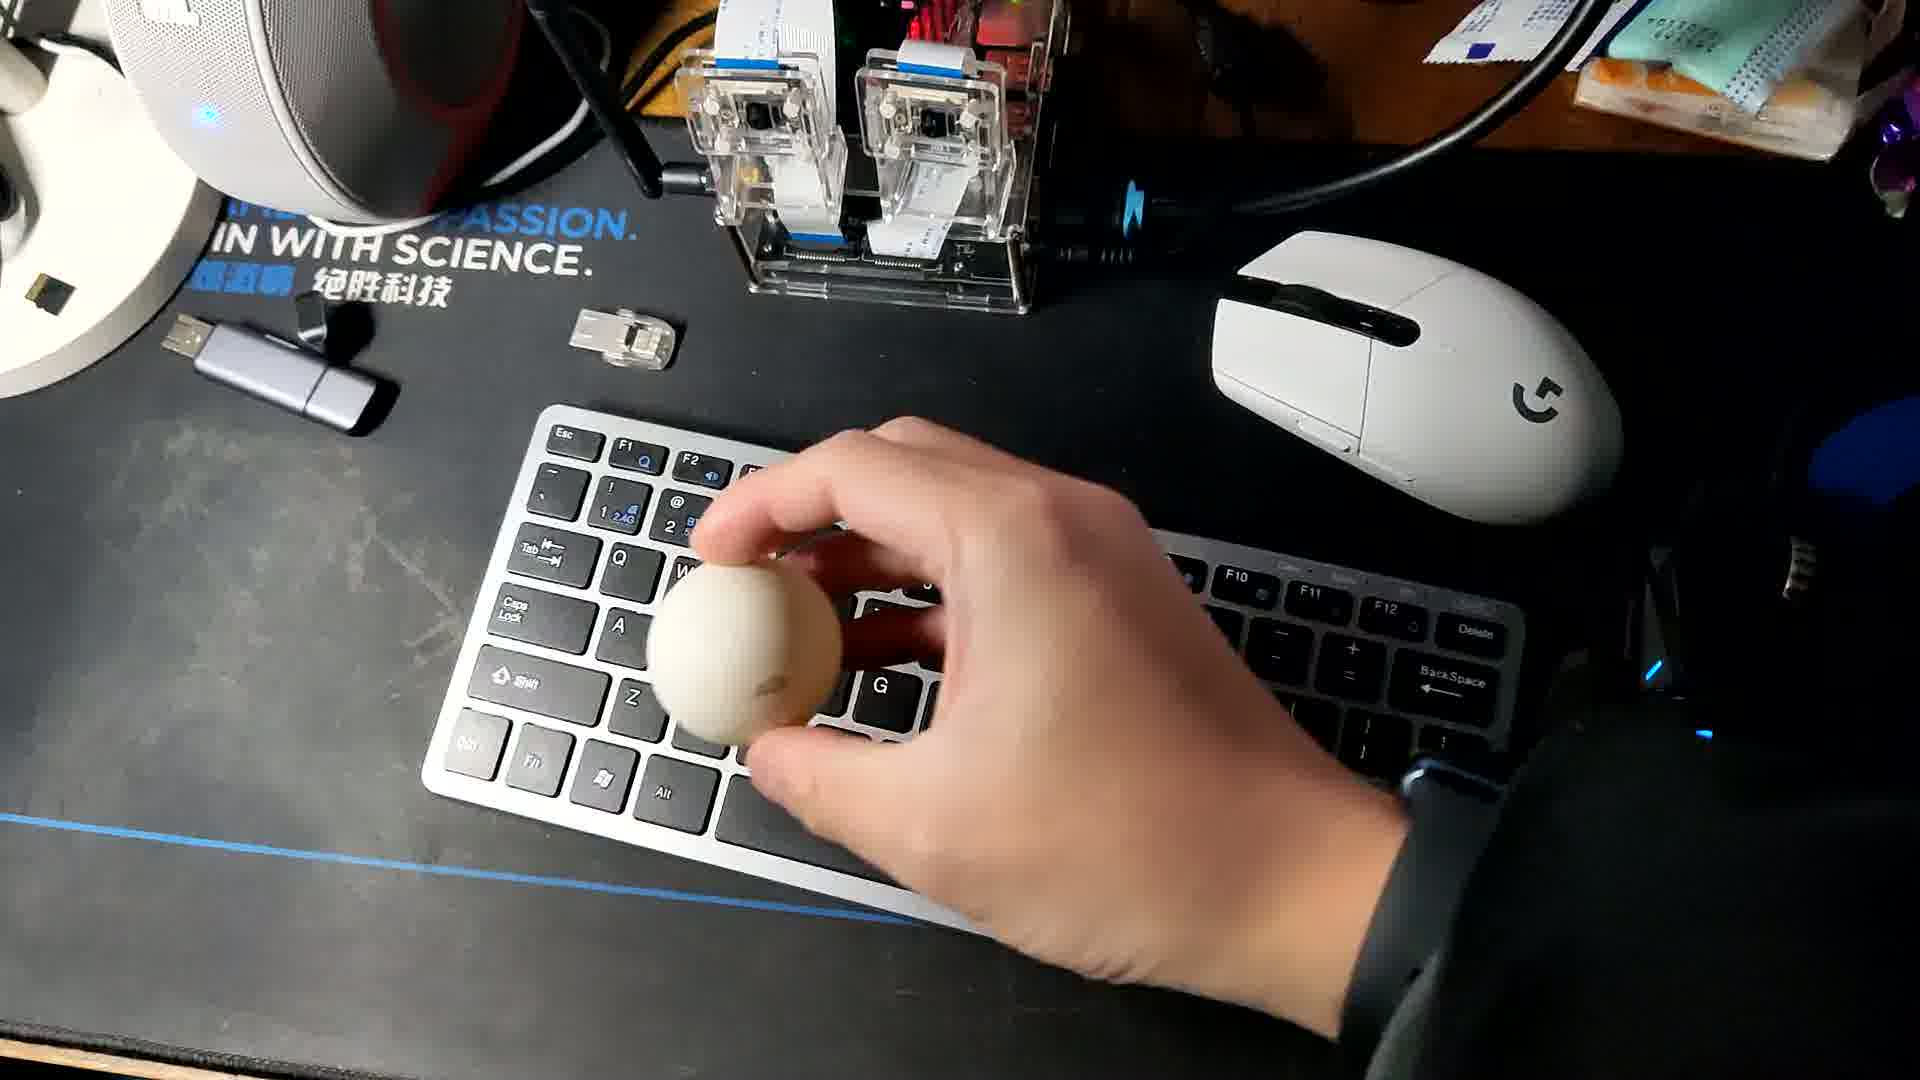Ball: (649, 568, 837, 744)
